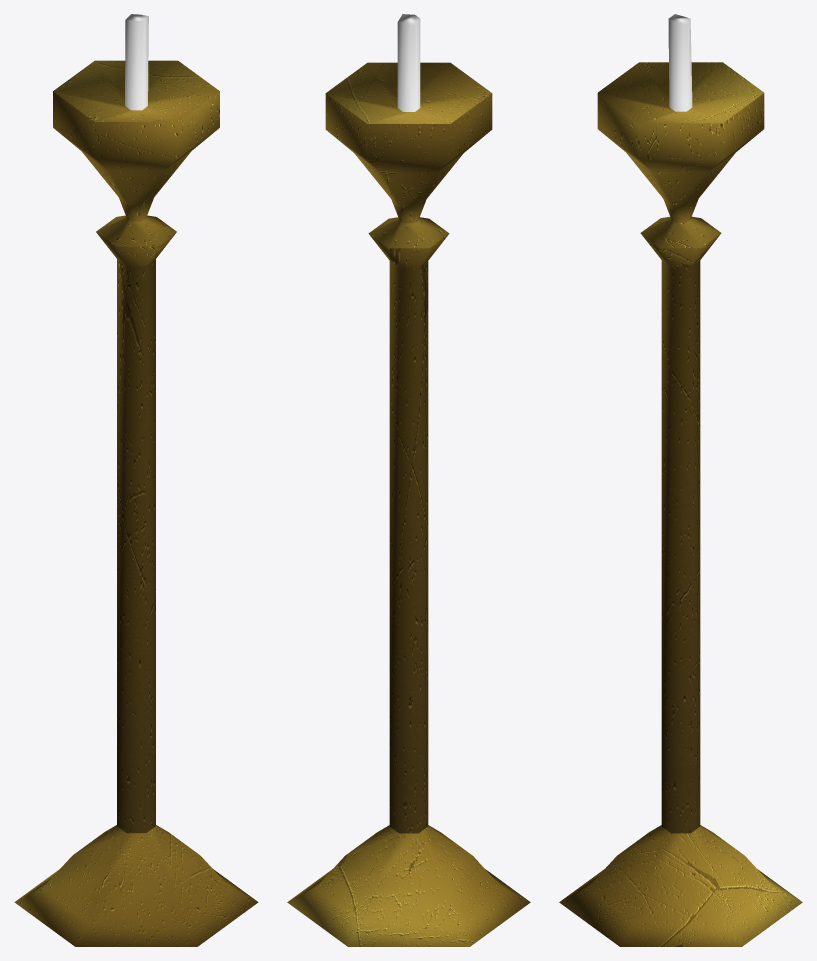
File: big_candle.fbx
3 renders of one model, left to right at view 1: azimuth 30°, elevation 25°; view 2: azimuth 150°, elevation 25°; view 3: azimuth 270°, elevation 25°, orthographic.
Visible parts, largest first — view 1: Cylinder; view 2: Cylinder; view 3: Cylinder.
Part boxes in pixels (x1=…): Cylinder: x1=14, y1=14, x2=258, y2=946; Cylinder: x1=287, y1=14, x2=530, y2=946; Cylinder: x1=559, y1=14, x2=802, y2=946.
Size of the model in its own units: 37.07 by 171 by 42.8.
